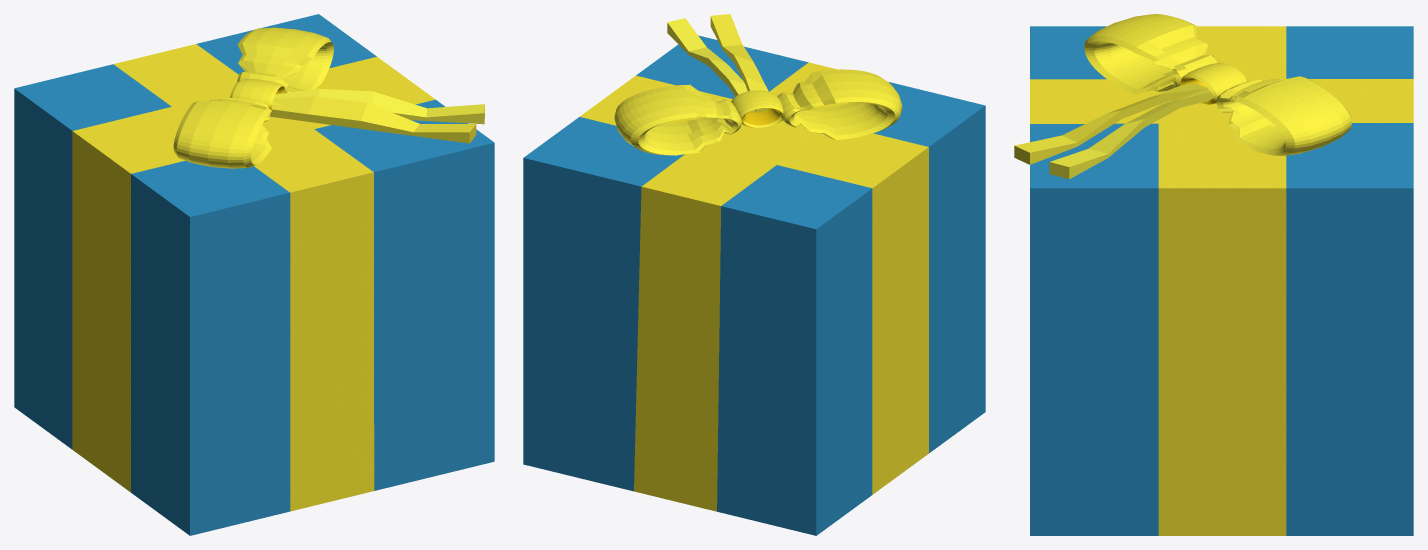
The model's file is PresentBlue.glb.
3 views of the same model, side by side, from view 1: azimuth 30°, elevation 25°; view 2: azimuth 150°, elevation 25°; view 3: azimuth 270°, elevation 25° (orthographic). The views are drawn at different scales.
Visible parts, largest first — view 1: Cube; view 2: Cube; view 3: Cube.
Boxes of the visible parts, x1,y1,x2,y2 form: Cube: (14, 14, 494, 535); Cube: (523, 14, 985, 535); Cube: (1014, 14, 1413, 535).
Bounding box in the file's own units: 2.05 × 2.28 × 2.08.
Materials: 1 (1 with a texture image).
